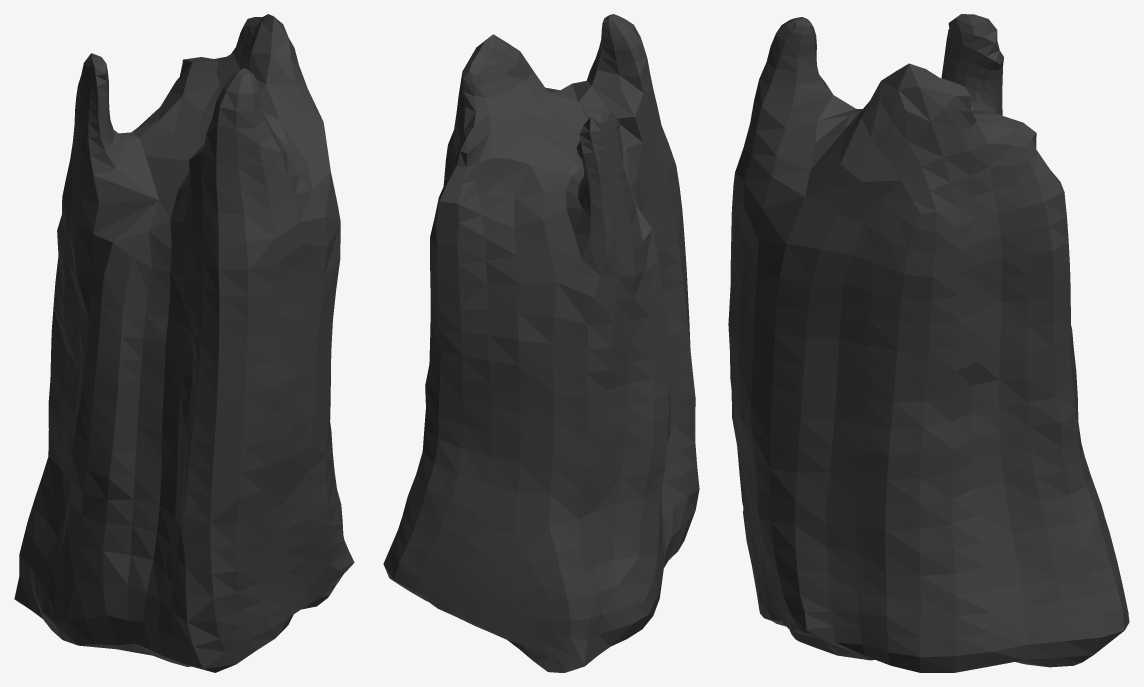
The model's file is R_max_PM3.glb.
3 renders of one model, left to right at view 1: azimuth 30°, elevation 25°; view 2: azimuth 150°, elevation 25°; view 3: azimuth 270°, elevation 25°, orthographic. The views are drawn at different scales.
Parts seen in each view (by area): view 1: R_max_PM3; view 2: R_max_PM3; view 3: R_max_PM3.
Boxes of the visible parts, x1,y1,x2,y2 form: R_max_PM3: [14, 14, 354, 672]; R_max_PM3: [383, 14, 699, 672]; R_max_PM3: [728, 14, 1129, 672].
Size of the model in its own units: 0.4712 by 1.06 by 0.585.
Materials: 1 (1 with a texture image).
